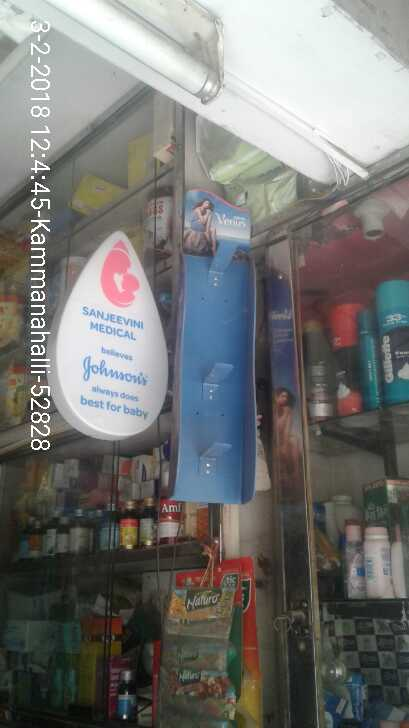gillette: (367, 274, 409, 403)
